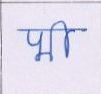i_matra: (53, 19, 72, 59)
